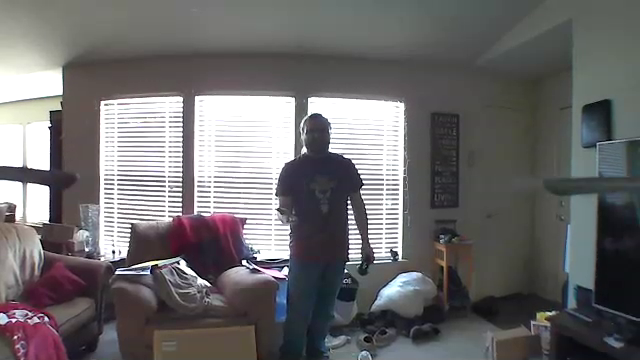land: (271, 205, 302, 228)
